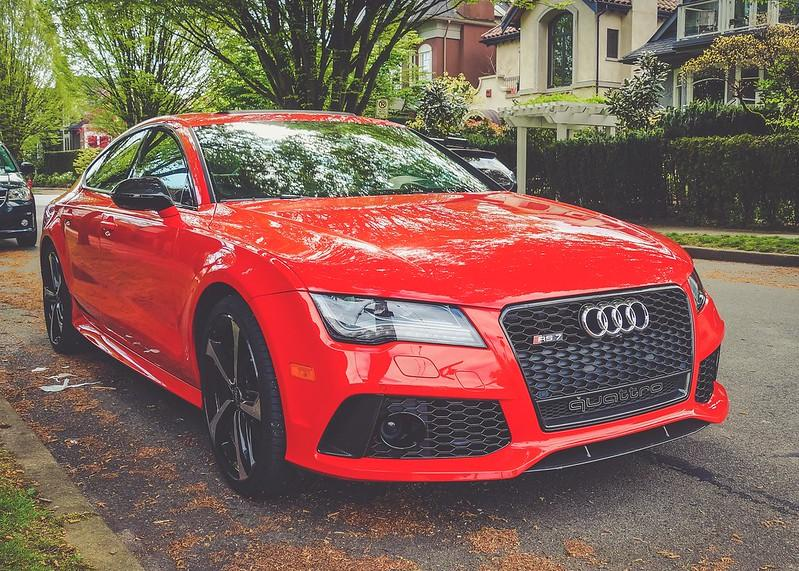windshield: (185, 118, 510, 215)
